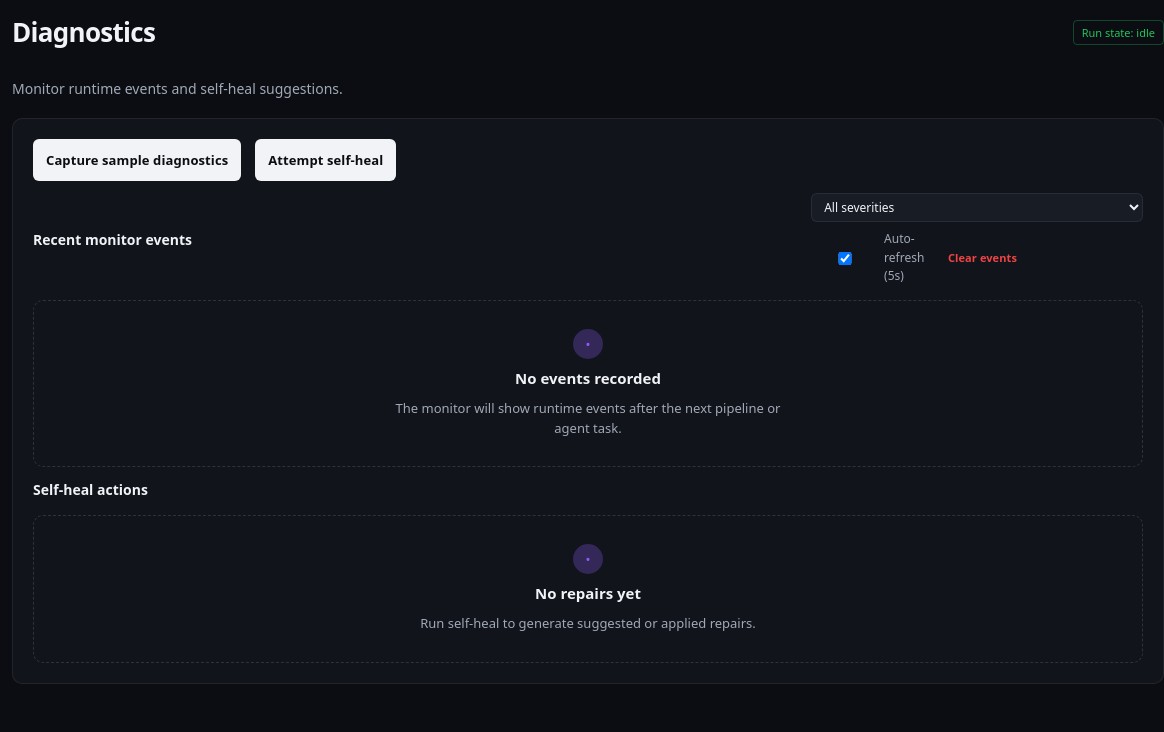
Test: Maintenance presentation contracts › reports failed self-heal and re-enables the action
Click the button "Attempt self-heal" at point(326, 160), box [255,139,396,181]
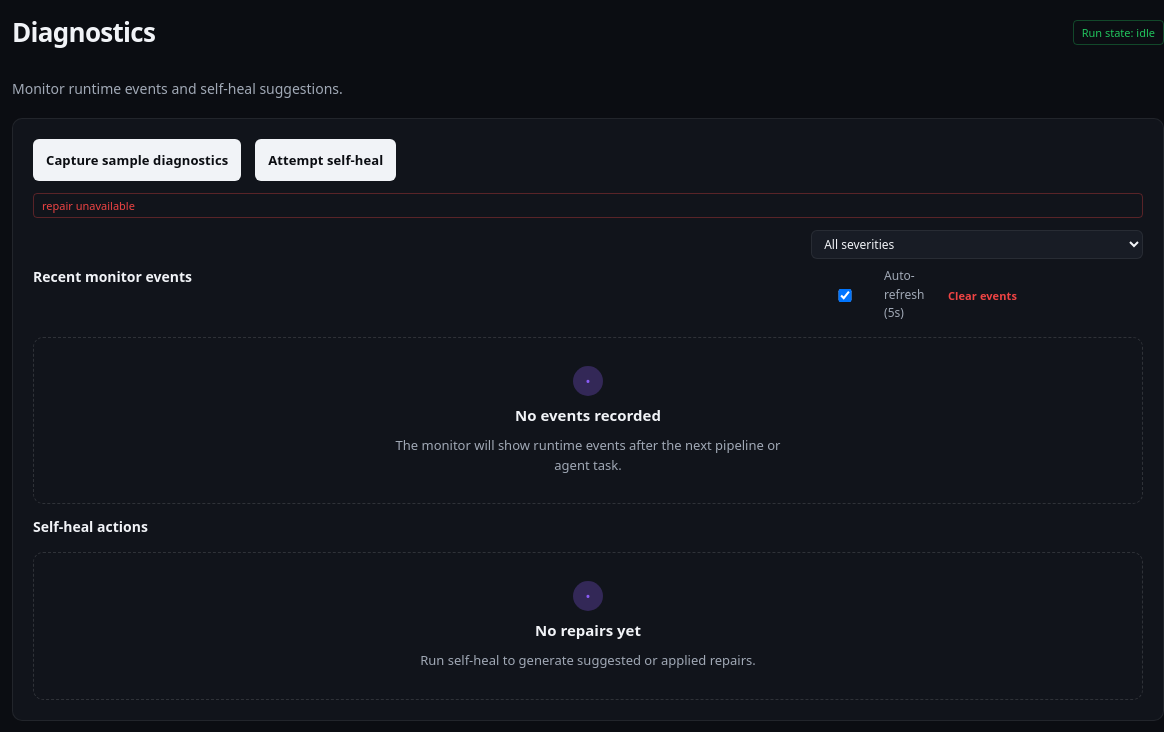
Expected: the message "repair unavailable" is shown, [33,193,1143,218]
